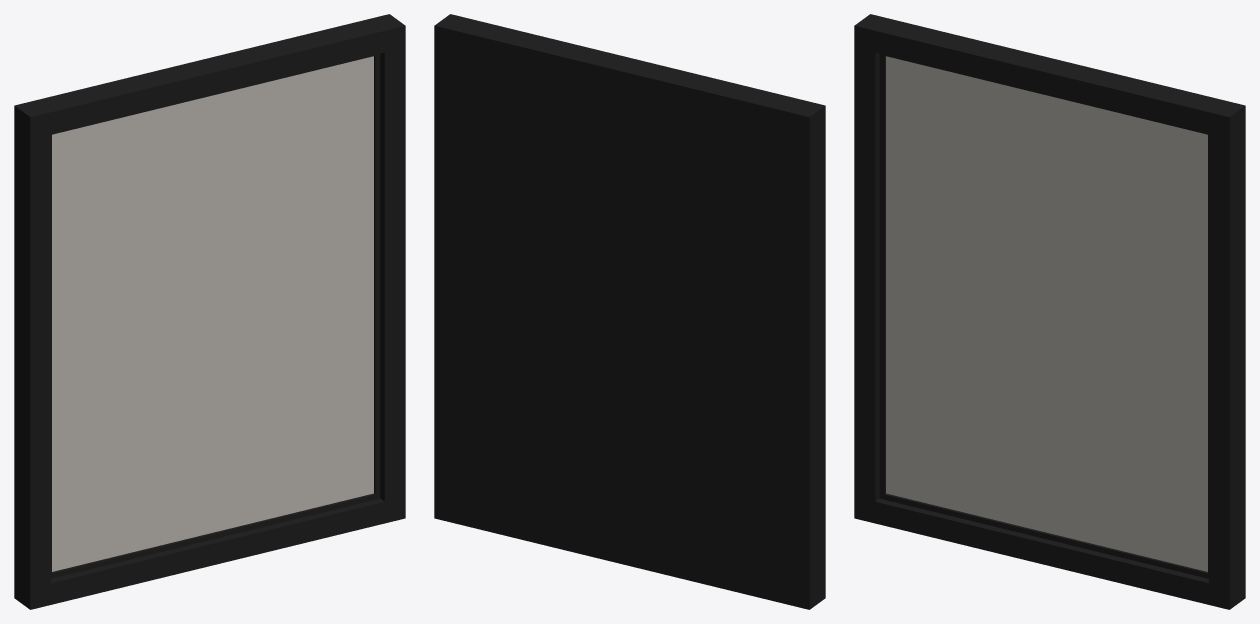
File: marco-v.glb
3 views of the same model, side by side, from view 1: azimuth 30°, elevation 25°; view 2: azimuth 150°, elevation 25°; view 3: azimuth 330°, elevation 25° (orthographic).
Parts seen in each view (by area): view 1: obra1, marco; view 2: marco; view 3: obra1, marco.
Part boxes in pixels (<box>): obra1: <box>52,56,373,571</box>; marco: <box>14,14,405,609</box>; marco: <box>434,14,825,609</box>; obra1: <box>886,56,1207,571</box>; marco: <box>854,14,1245,609</box>.
Size of the model in its own units: 0.298 by 0.374 by 0.022.
Materials: 2 (1 with a texture image).
